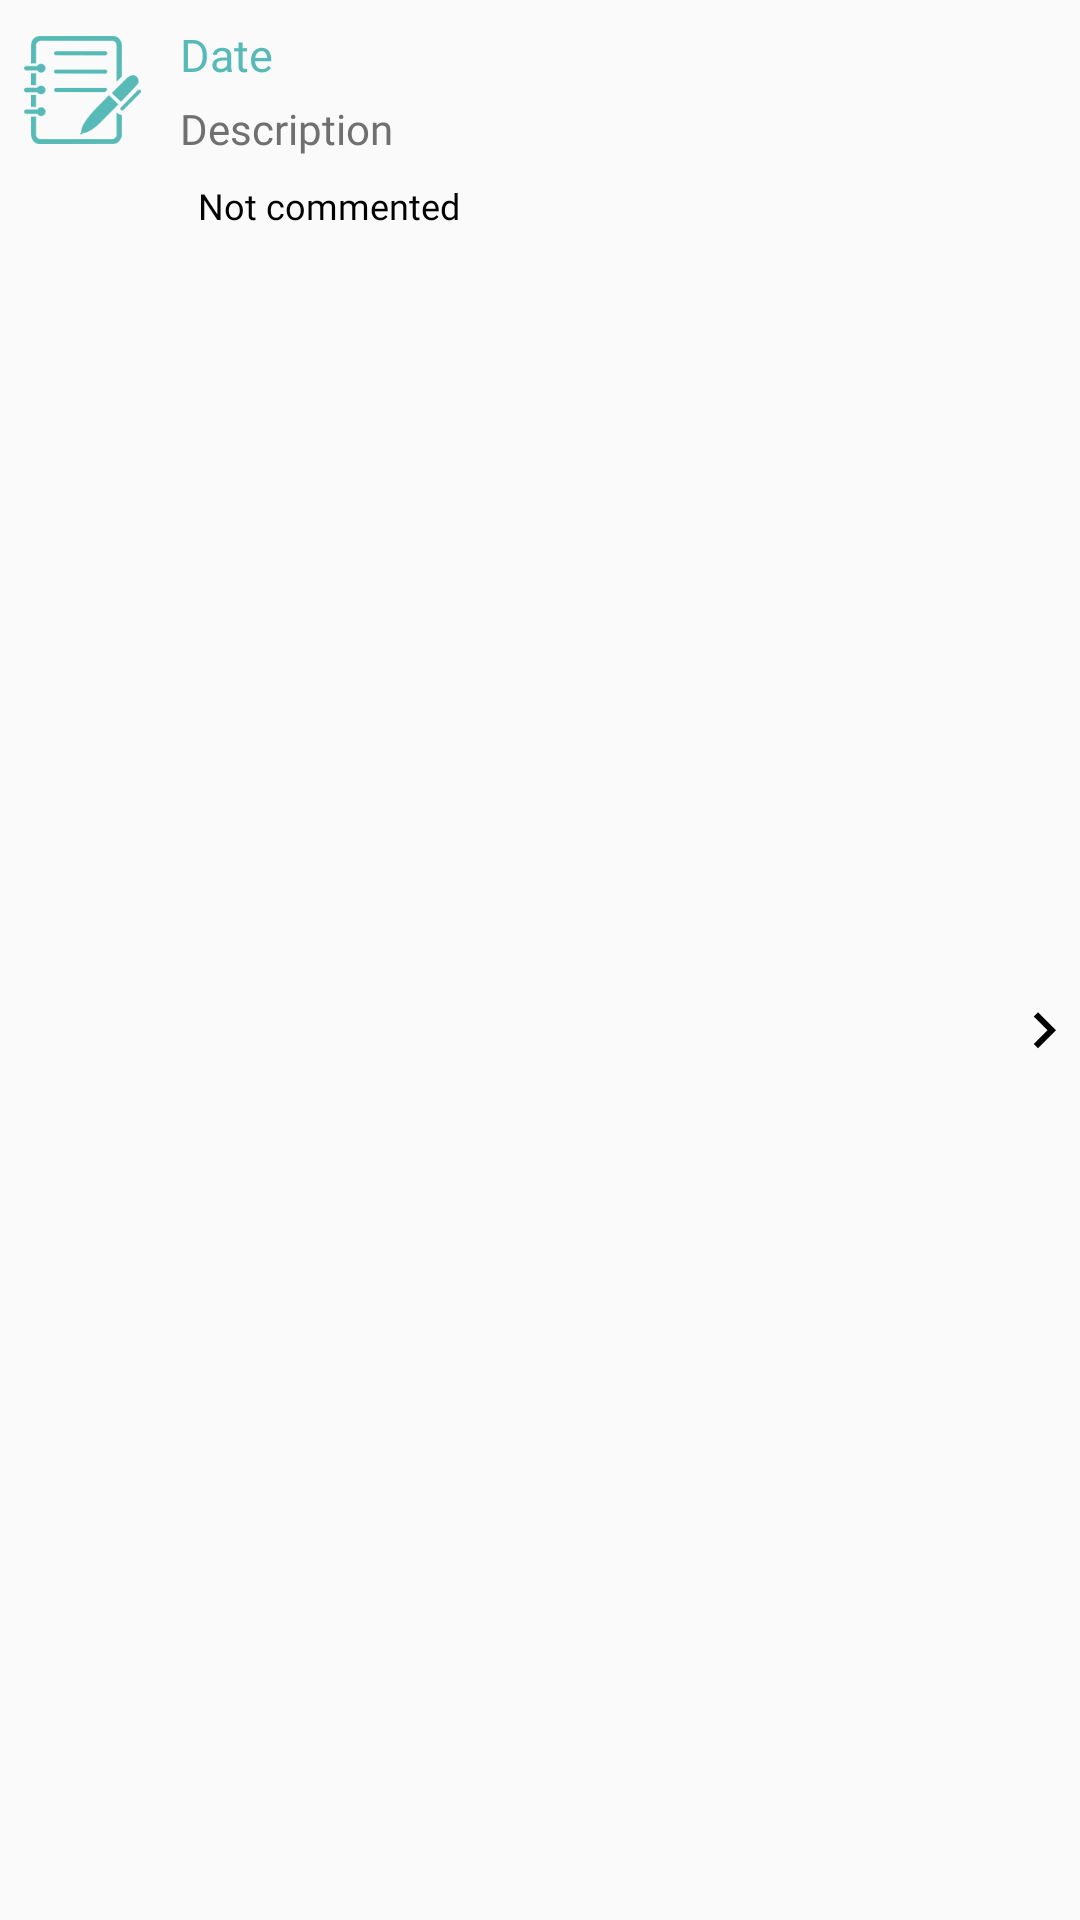

Screen size 1080w x 1920h. Icon name, then its box in pixels as (x1, y1, x2, y2):
next: (1034, 1012, 1056, 1048)
report: (24, 36, 141, 144)
